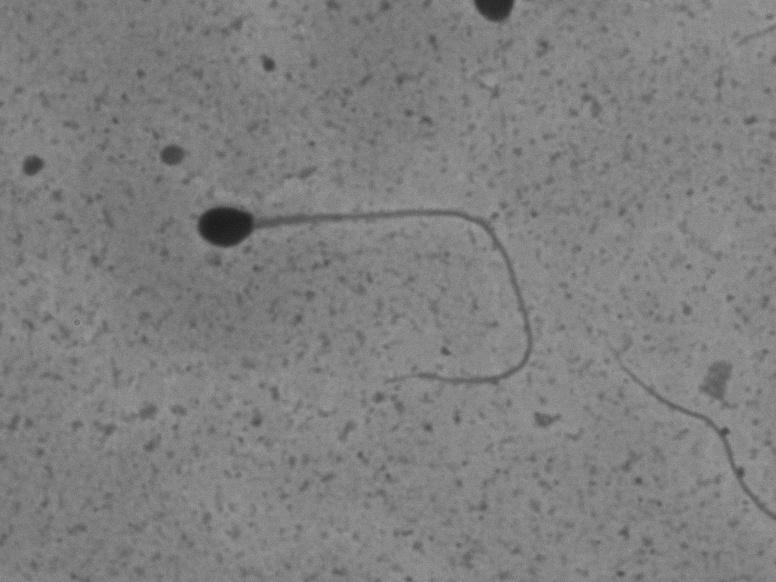Abnormal: (179, 159, 593, 414)
